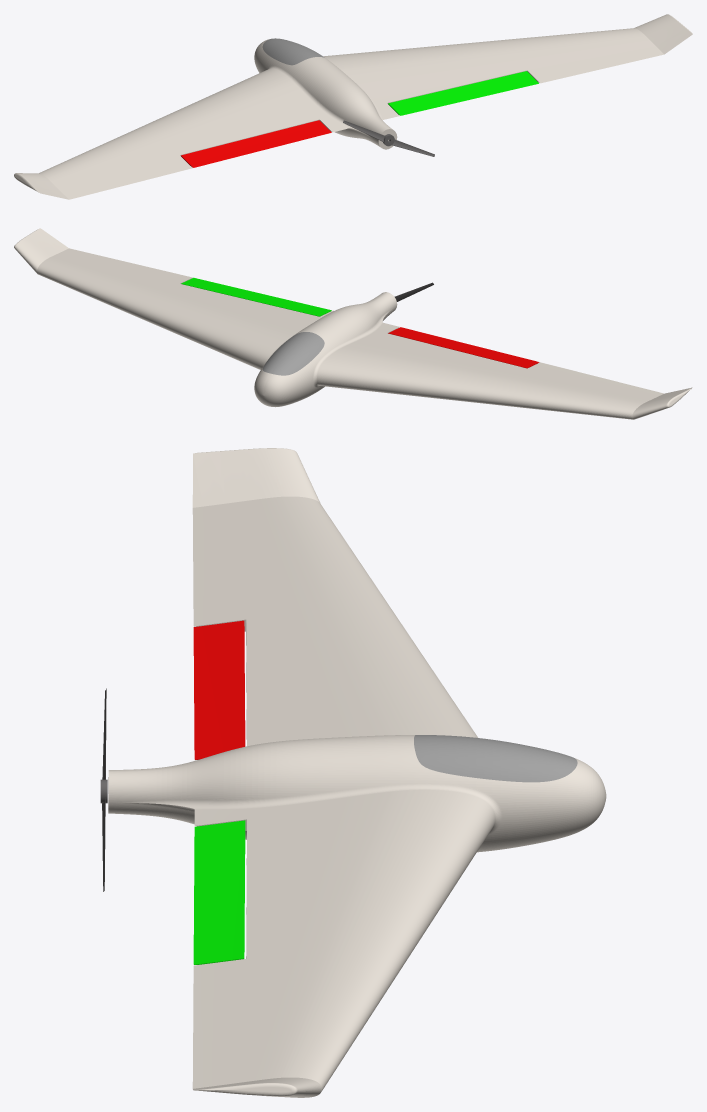
The model's file is model_flying_wing-aZcXsDht.gltf.
The picture shows the model from 3 angles, top to bottom: view 1: azimuth 30°, elevation 25°; view 2: azimuth 150°, elevation 25°; view 3: azimuth 270°, elevation 25°; orthographic projection. The views are drawn at different scales.
Visible parts, largest first — view 1: INAV WIng v8; view 2: INAV WIng v8; view 3: INAV WIng v8.
Part boxes in pixels (bbox=[...]): INAV WIng v8: bbox=[14, 14, 692, 199]; INAV WIng v8: bbox=[14, 228, 692, 419]; INAV WIng v8: bbox=[100, 448, 606, 1097].
Size of the model in its own units: 11.98 by 1.03 by 4.
